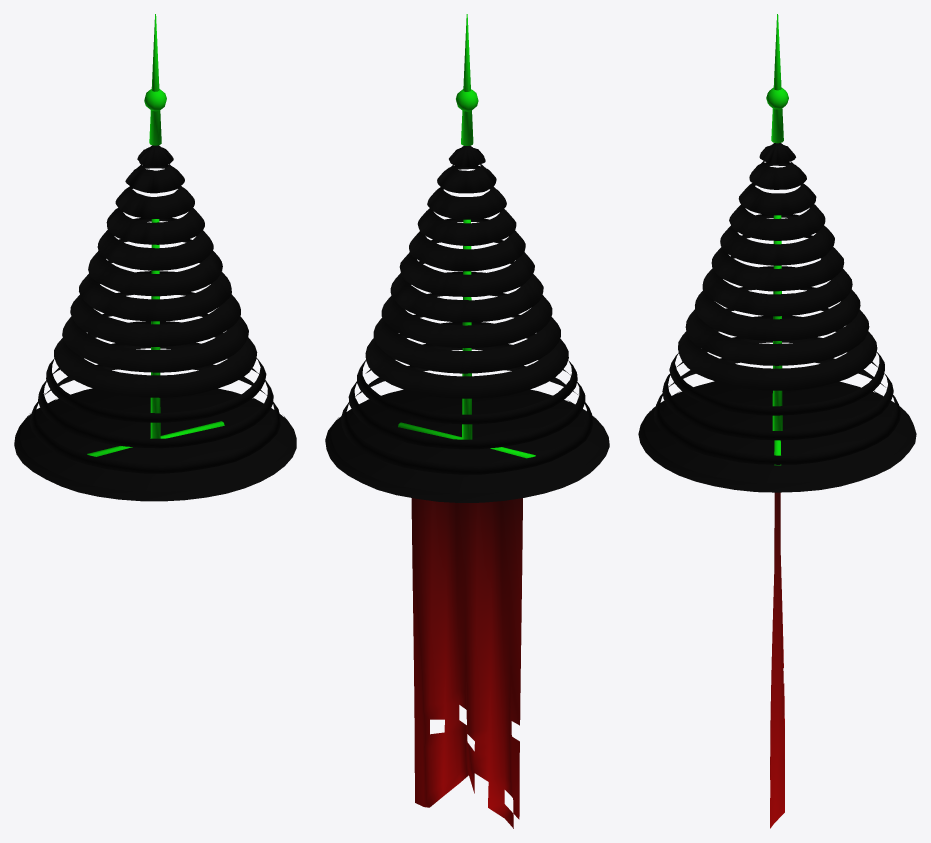
Rendered from architecture.glb.
3 renders of one model, left to right at view 1: azimuth 30°, elevation 25°; view 2: azimuth 150°, elevation 25°; view 3: azimuth 270°, elevation 25°, orthographic. The views are drawn at different scales.
Parts seen in each view (by area): view 1: roof_lod0, banner_lod0; view 2: roof_lod0, banner_lod0; view 3: roof_lod0, banner_lod0.
Part boxes in pixels (<box>): roof_lod0: <box>14,14,296,501</box>; banner_lod0: <box>87,219,224,456</box>; roof_lod0: <box>325,14,609,502</box>; banner_lod0: <box>398,219,535,828</box>; roof_lod0: <box>638,14,916,492</box>; banner_lod0: <box>770,215,784,828</box>.
Size of what is drawn, in the model's own units: 2.19 by 6.85 by 2.19.
